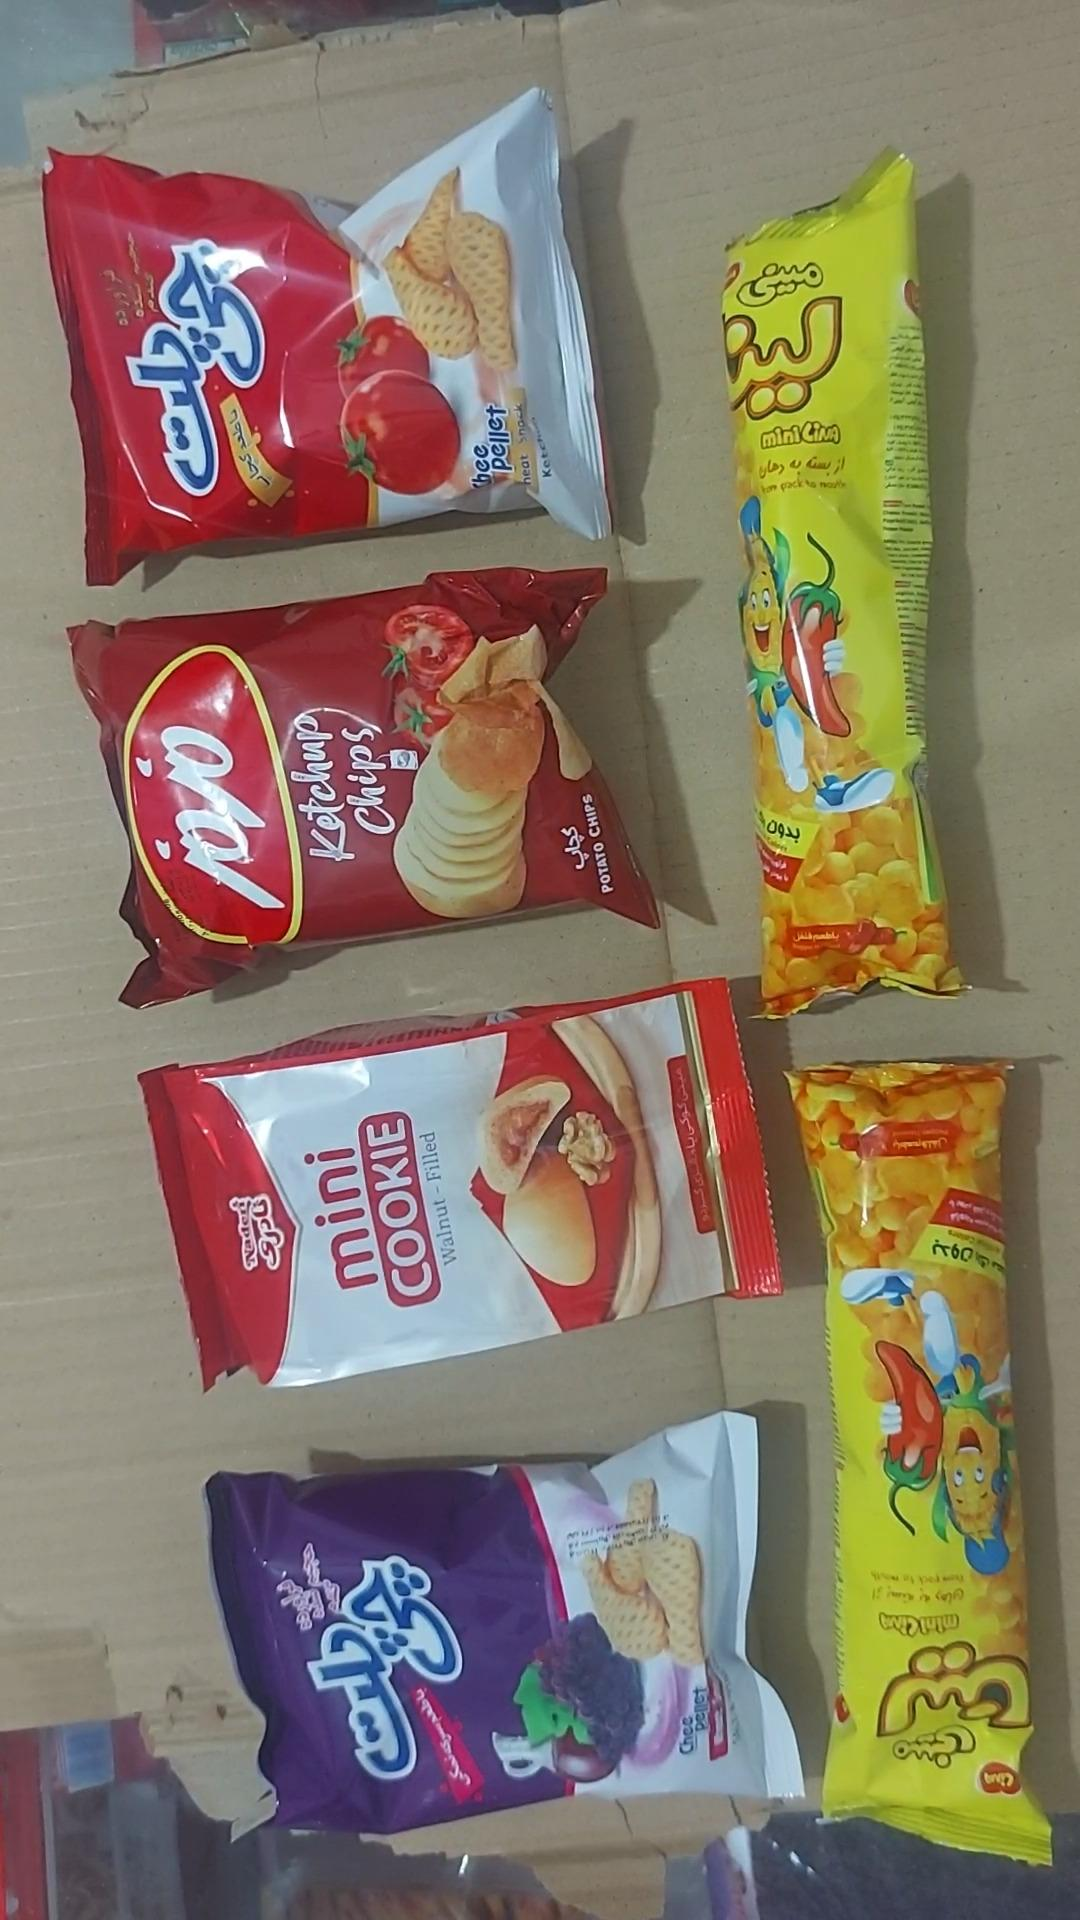Chee pellet ketchup: (40, 90, 612, 587)
Chee pellet vinegar: (203, 1412, 804, 1837)
Maz Maz ketchup chips: (66, 567, 662, 1011)
Mini Lina: (785, 1063, 1052, 1869), (719, 150, 965, 1025)
Naderi mini cookie: (136, 978, 785, 1393)
